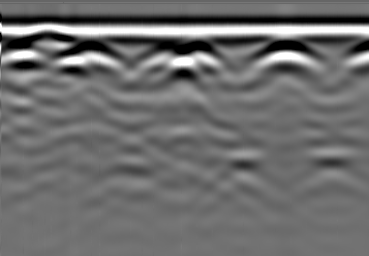pipe: (26, 27, 67, 42)
steel: (262, 42, 312, 72), (66, 45, 117, 73), (181, 41, 221, 68), (145, 39, 178, 64)
